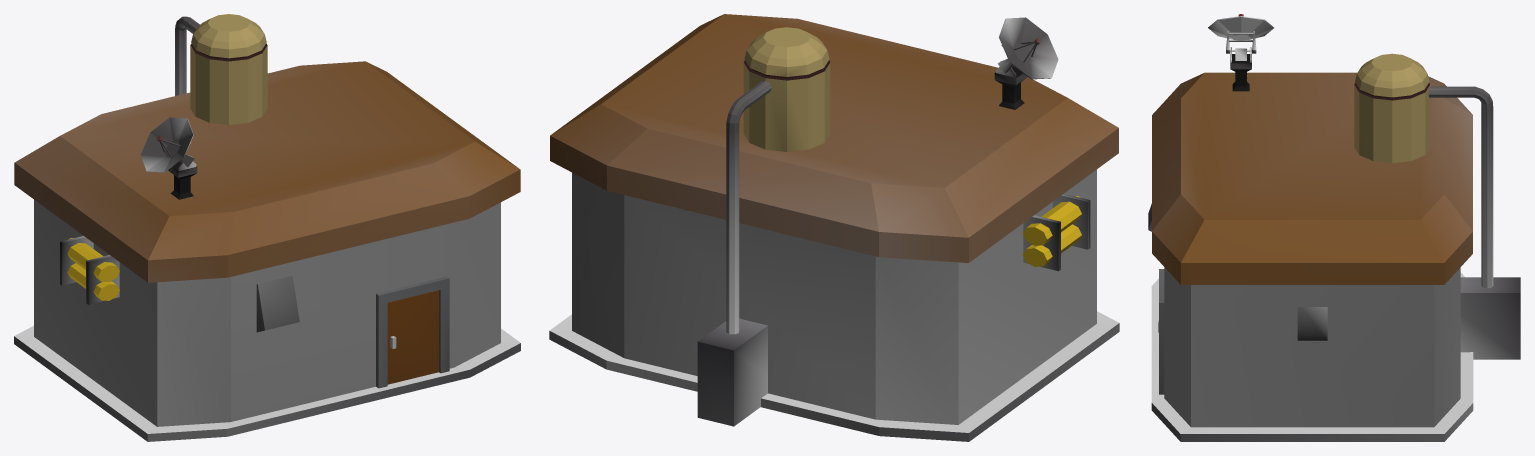
File: edificacao6-1.fbx
3 views of the same model, side by side, from view 1: azimuth 30°, elevation 25°; view 2: azimuth 150°, elevation 25°; view 3: azimuth 270°, elevation 25° (orthographic). The views are drawn at different scales.
Parts seen in each view (by area): view 1: edicacao6-1; view 2: edicacao6-1; view 3: edicacao6-1.
Part boxes in pixels (box(x1,y1,x2,y2)): edicacao6-1: box(14, 14, 520, 441); edicacao6-1: box(549, 14, 1119, 441); edicacao6-1: box(1148, 14, 1520, 441).
Size of the model in its own units: 972 by 701 by 815.
